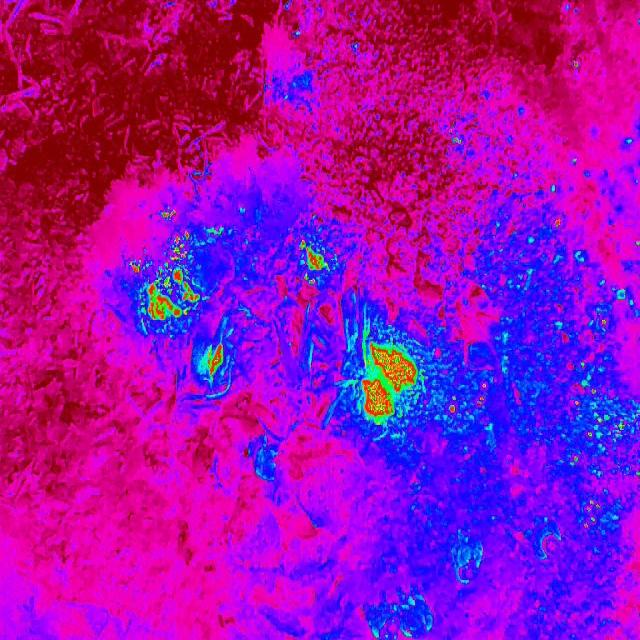fire: (539, 197, 640, 532), (129, 227, 205, 328), (355, 330, 421, 430), (295, 236, 333, 288), (444, 379, 490, 417), (198, 340, 228, 386), (162, 207, 178, 226), (448, 132, 464, 150), (569, 58, 582, 72)
